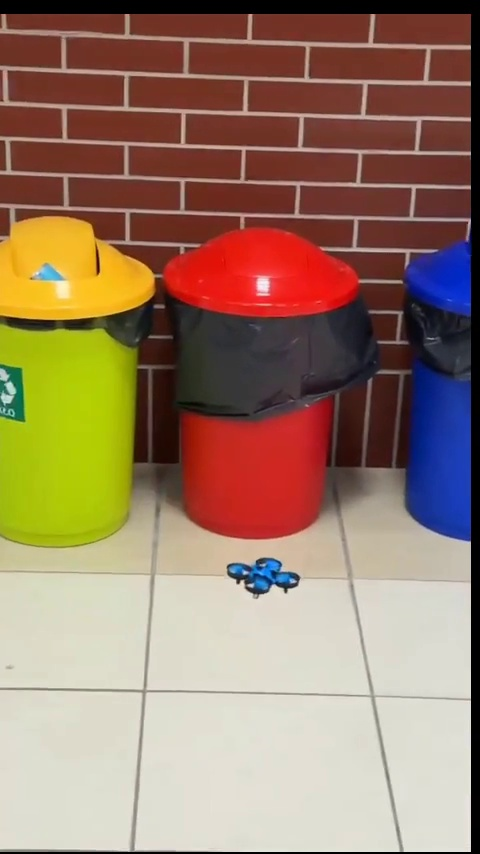drone: (227, 556, 302, 597)
